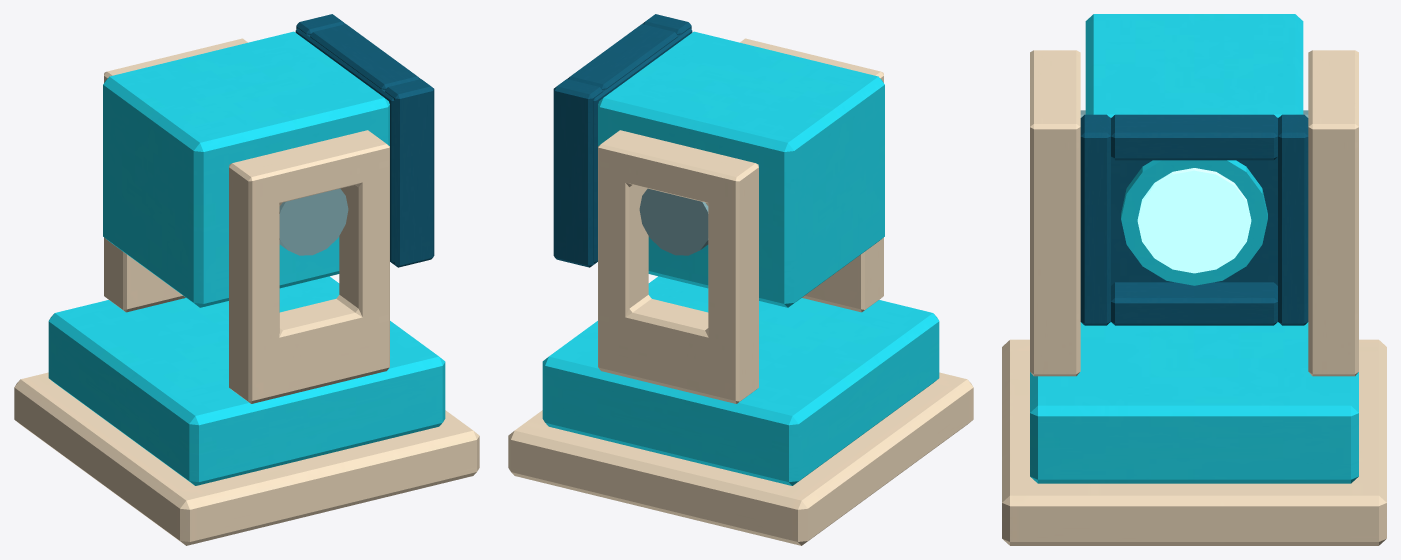
Rendered from laser.glb.
3 renders of one model, left to right at view 1: azimuth 30°, elevation 25°; view 2: azimuth 150°, elevation 25°; view 3: azimuth 270°, elevation 25°, orthographic. The views are drawn at different scales.
Visible parts, largest first — view 1: fixed-geometry, housing-geometry, yoke-geometry; view 2: fixed-geometry, housing-geometry, yoke-geometry; view 3: fixed-geometry, housing-geometry, yoke-geometry, laser-lens.
Boxes of the visible parts, box(x1,y1,x2,y2) form: fixed-geometry: box(14, 276, 479, 545); housing-geometry: box(103, 14, 434, 307); yoke-geometry: box(104, 38, 389, 403); fixed-geometry: box(508, 276, 973, 545); housing-geometry: box(553, 14, 884, 307); yoke-geometry: box(598, 38, 883, 403); fixed-geometry: box(1002, 322, 1386, 545); housing-geometry: box(1080, 14, 1308, 325); yoke-geometry: box(1030, 50, 1358, 376); laser-lens: box(1137, 168, 1251, 273).
Size of the model in its own units: 0.76 by 0.89 by 0.76.
2 materials, 1 textured.
